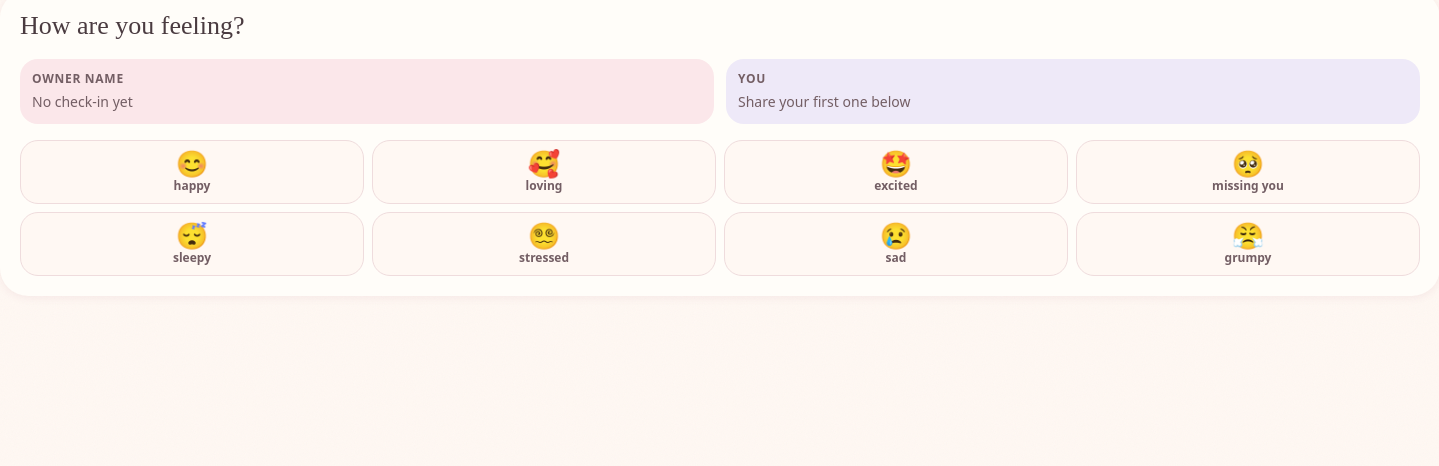
Test: MoodCheckIn › shares a mood with an optional note
Click the radio button labelled "loving": (544, 172) [372,140,716,204]
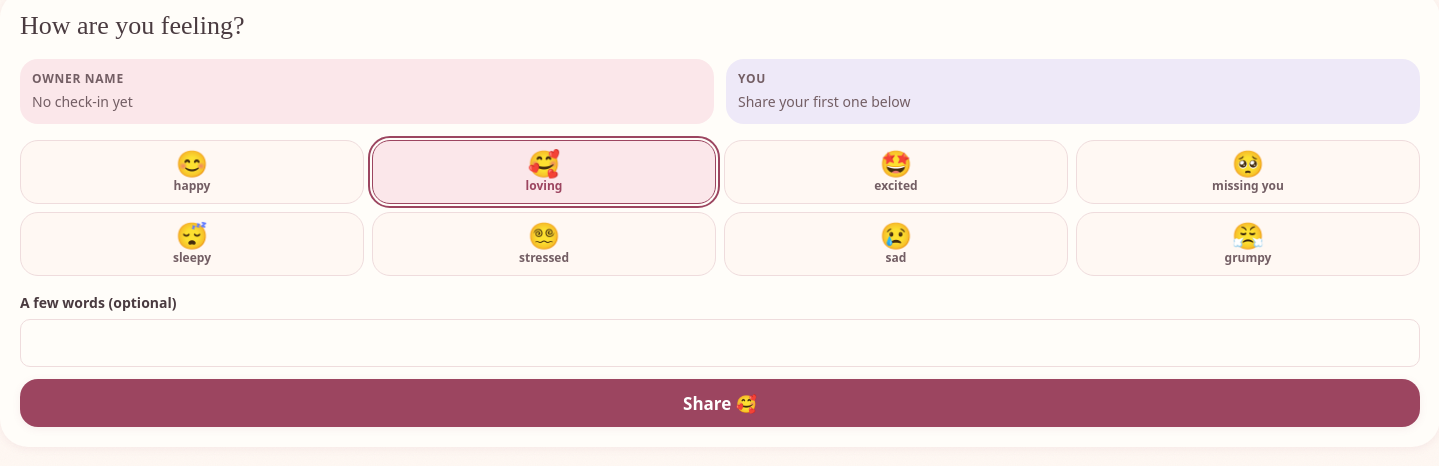
In the field labelled "A few words (optional)": (720, 343) [20,319,1420,367], type "thinking of you"
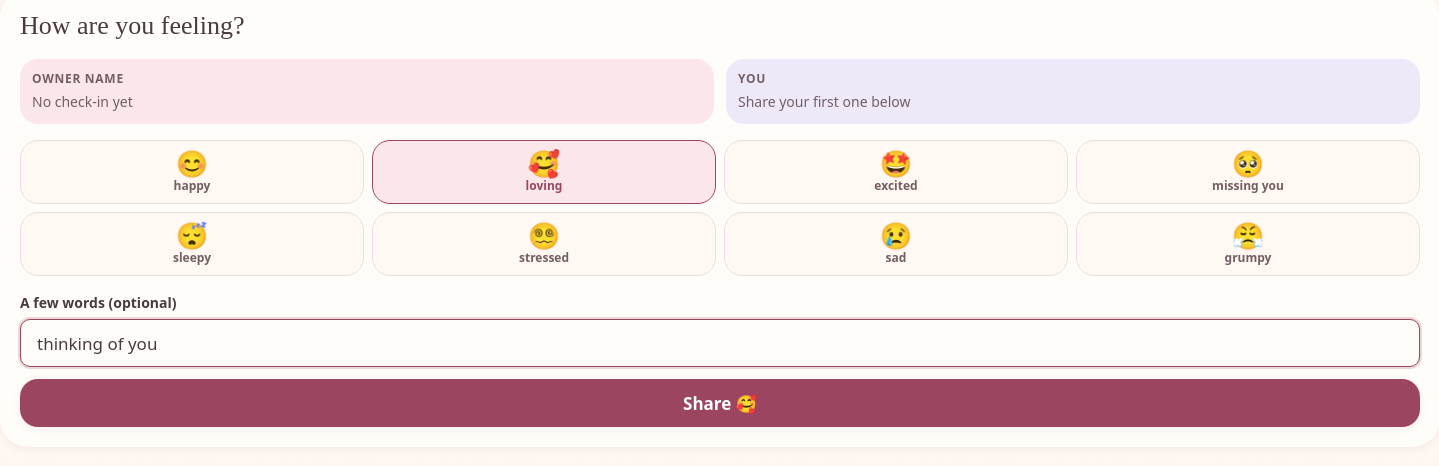
Click the button "Share 🥰": (720, 403) [20,379,1420,427]
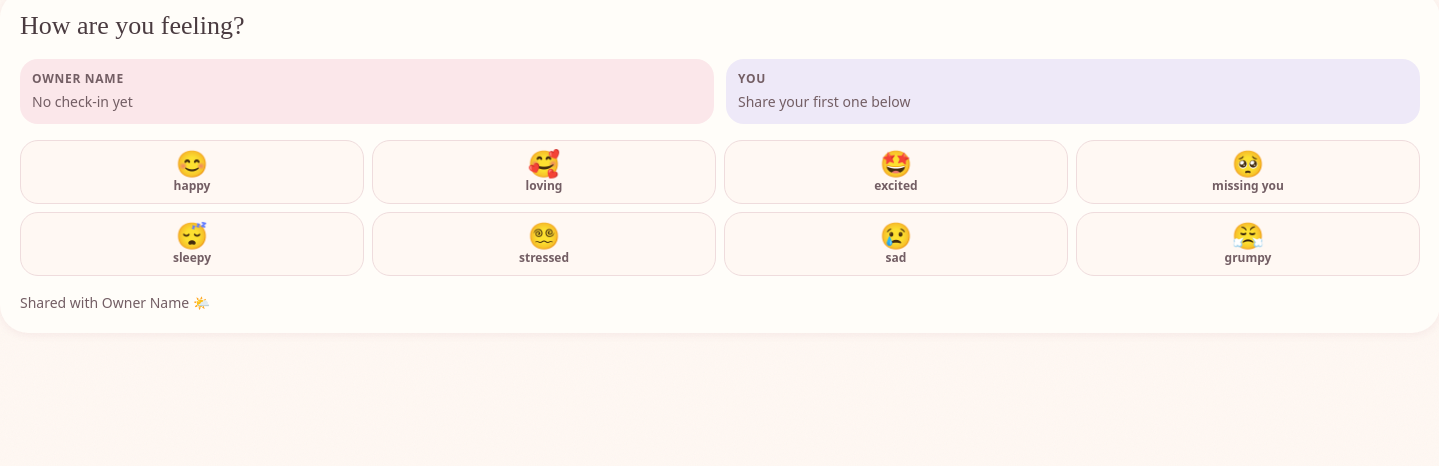
Result: the text "Shared with Owner Name 🌤️" is shown at [20,293,210,312]
